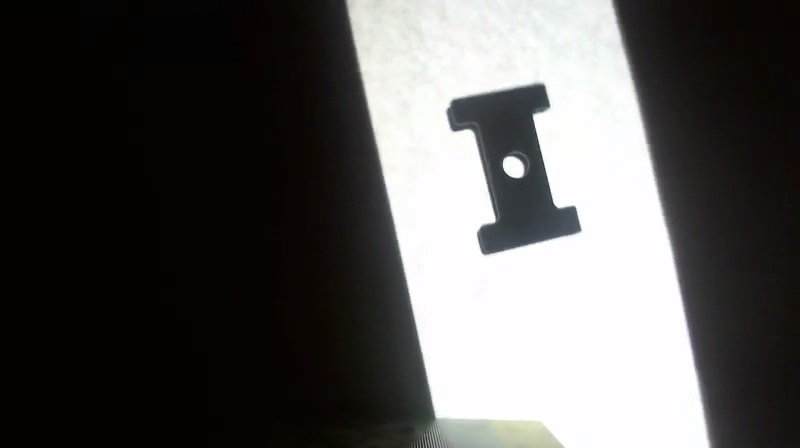O002: (444, 81, 585, 258)
